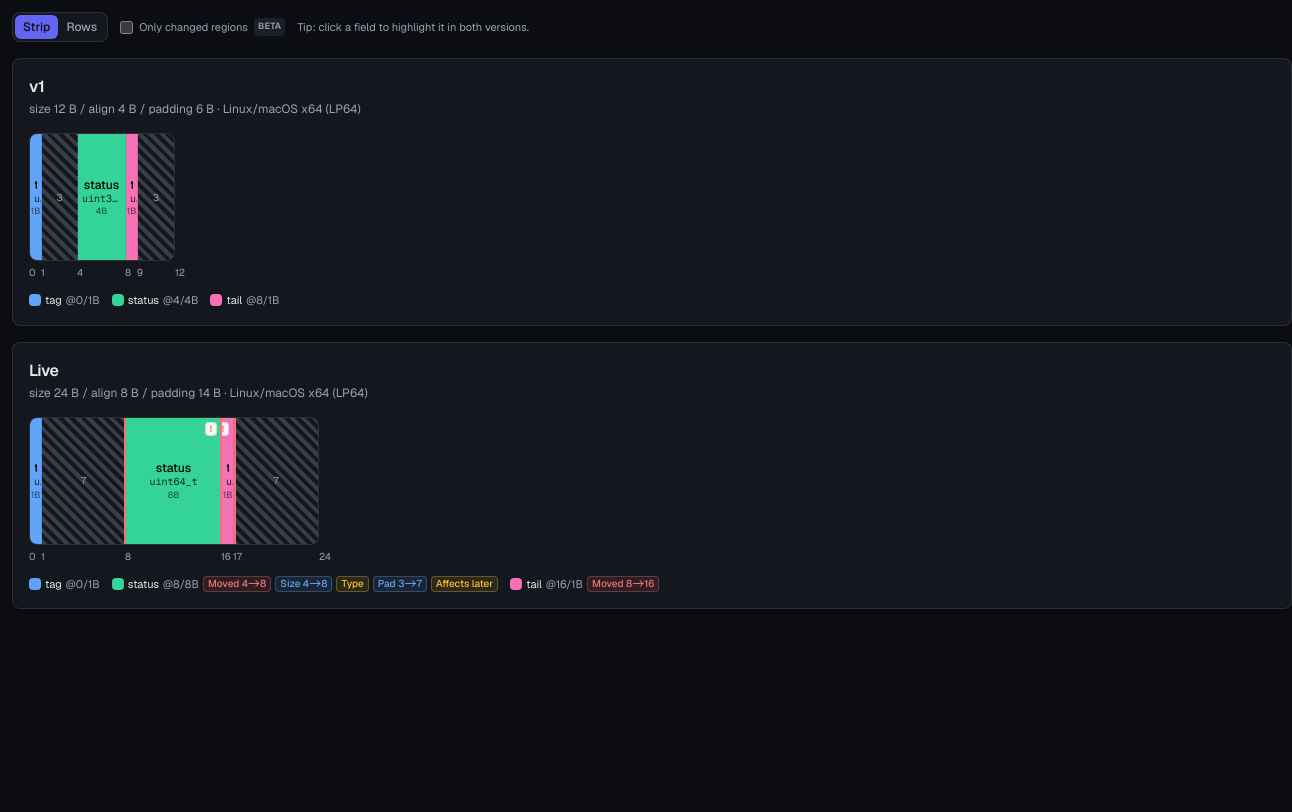
Test: <LayoutVisualizer mode='compare' /> changed regions › keeps Strip/Rows available and preserves strip scale, offsets, bits, and padding
Expected: the number of elements named "Memory layout strip" is 2, [29, 133, 175, 261]; [29, 416, 319, 544]
Click the checkbox labelled "Only changed regions beta".
click(127, 27)  # box [120, 20, 133, 34]
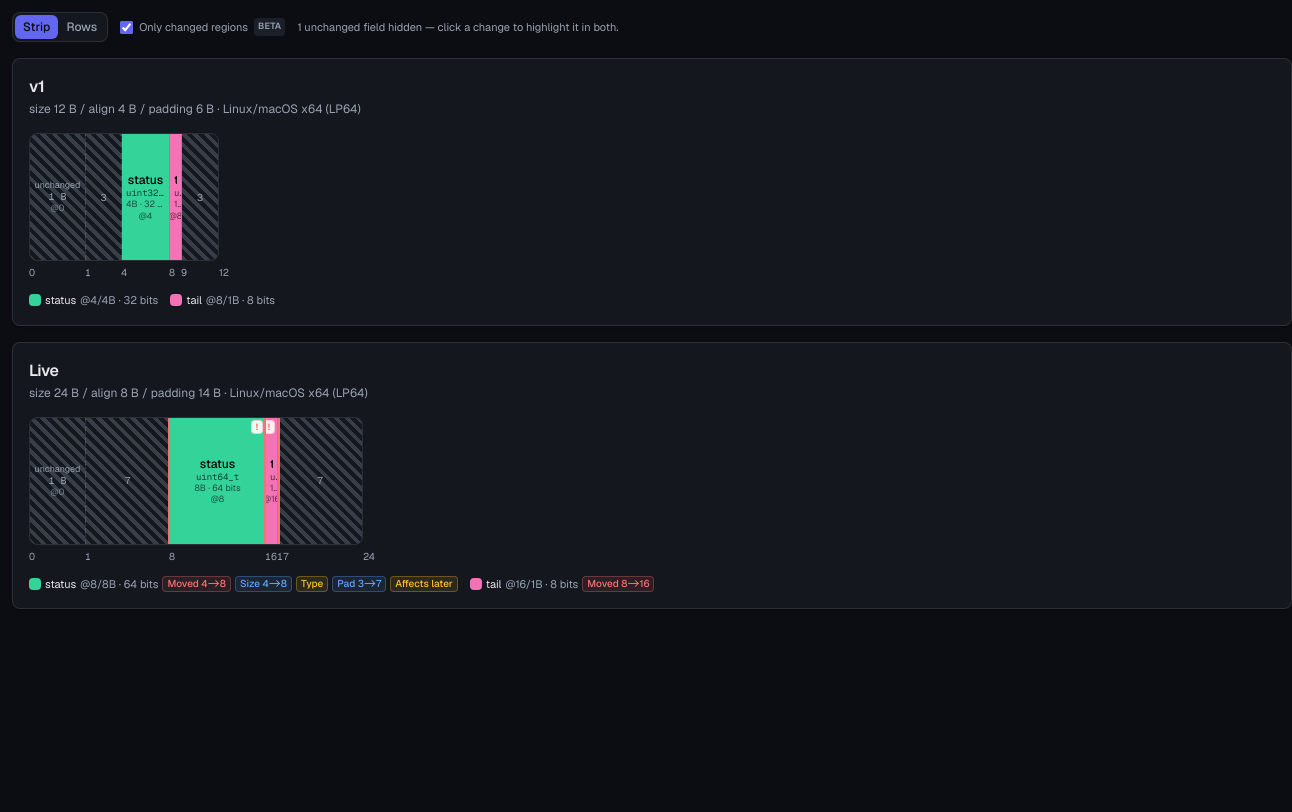
Result: the number of elements named "Changed regions strip" is 2 at [29, 133, 219, 261]; [29, 416, 363, 544]
Result: the text "4B · 32 bits" is shown at [122, 199, 169, 211]
Result: the text "8B · 64 bits" is shown at [190, 483, 245, 494]
